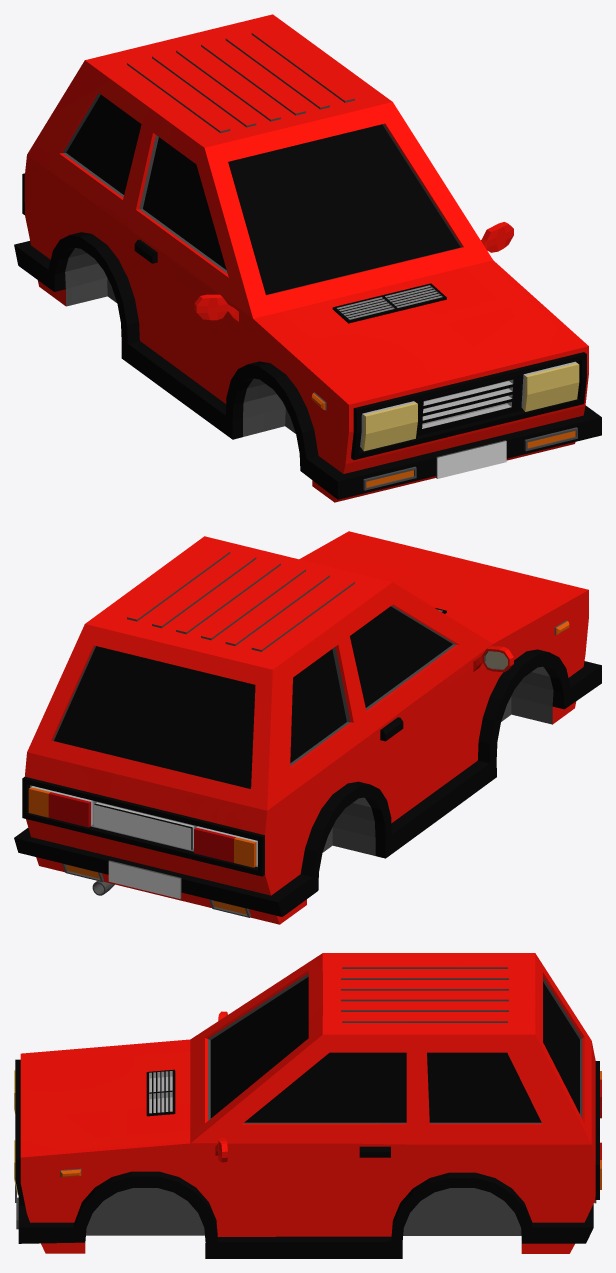
Rendered from JeepCar.fbx.
3 renders of one model, top to bottom at view 1: azimuth 30°, elevation 25°; view 2: azimuth 150°, elevation 25°; view 3: azimuth 270°, elevation 25°, orthographic. The views are drawn at different scales.
Visible parts, largest first — view 1: JeepCar.Body.Mesh; view 2: JeepCar.Body.Mesh; view 3: JeepCar.Body.Mesh.
Boxes of the visible parts, <box> form: JeepCar.Body.Mesh: <box>14,14,601,502</box>; JeepCar.Body.Mesh: <box>14,531,601,924</box>; JeepCar.Body.Mesh: <box>14,953,601,1258</box>.
Size of the model in its own units: 0.8453 by 0.6404 by 1.53.
